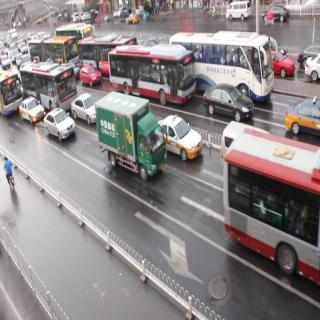BigCar: (225, 124, 320, 291), (169, 30, 279, 101), (94, 91, 166, 183), (108, 44, 198, 106), (18, 60, 76, 115), (28, 38, 80, 66)
Car: (156, 110, 207, 172), (216, 114, 269, 166), (201, 80, 251, 122), (284, 92, 320, 137), (44, 108, 74, 143), (70, 93, 101, 126), (0, 72, 23, 114), (17, 96, 44, 124), (79, 66, 100, 89), (117, 8, 131, 22), (126, 13, 140, 26), (19, 42, 29, 55), (1, 56, 11, 68)
